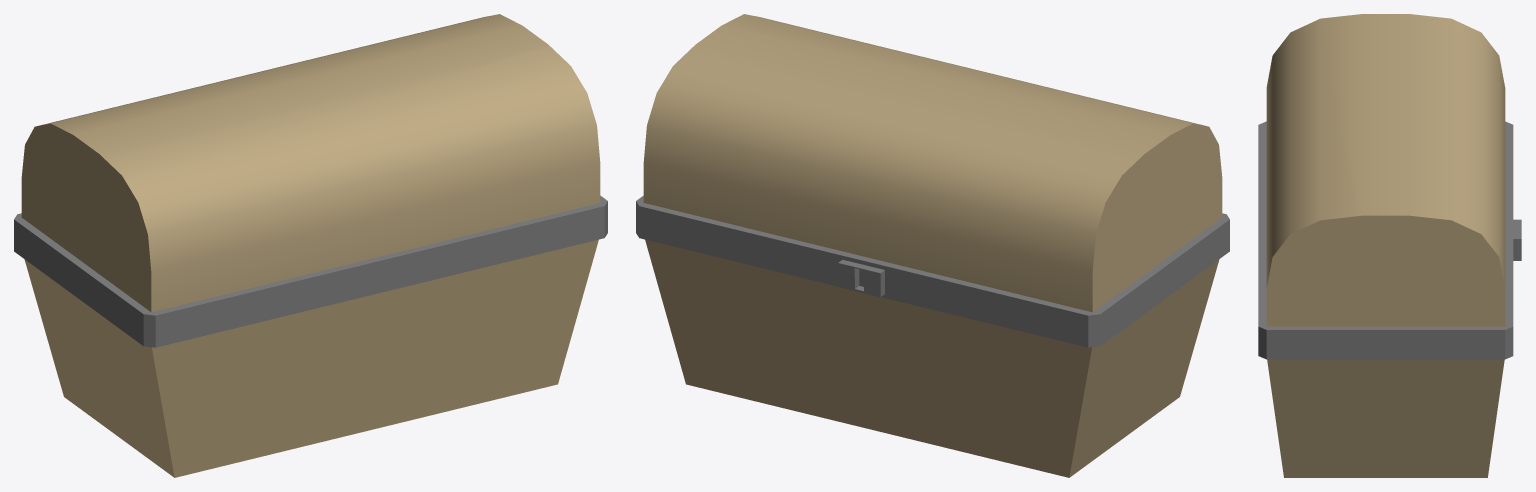
The model's file is Chest.fbx.
3 renders of one model, left to right at view 1: azimuth 30°, elevation 25°; view 2: azimuth 150°, elevation 25°; view 3: azimuth 270°, elevation 25°, orthographic. The views are drawn at different scales.
Parts seen in each view (by area): view 1: Box001; view 2: Box001; view 3: Box001.
Part boxes in pixels (x1,y1,x2,y2): Box001: (14, 14, 607, 477); Box001: (636, 14, 1229, 477); Box001: (1258, 14, 1521, 477).
Size of the model in its own units: 121 by 75 by 64.56.
